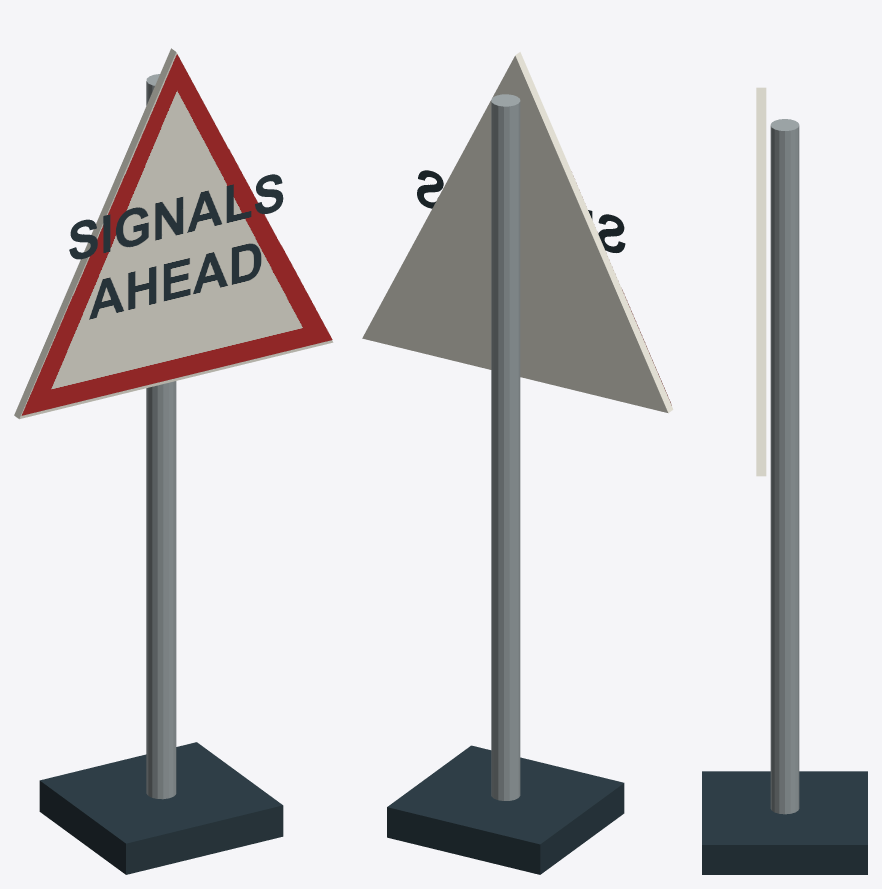
Rendered from scendance-plan-traffic-lights-ahead.glb.
The picture shows the model from 3 angles, left to right: view 1: azimuth 30°, elevation 25°; view 2: azimuth 150°, elevation 25°; view 3: azimuth 270°, elevation 25°; orthographic projection. The views are drawn at different scales.
Size of the model in its own units: 0.84 by 2 by 0.4.
4 materials, 1 textured.
